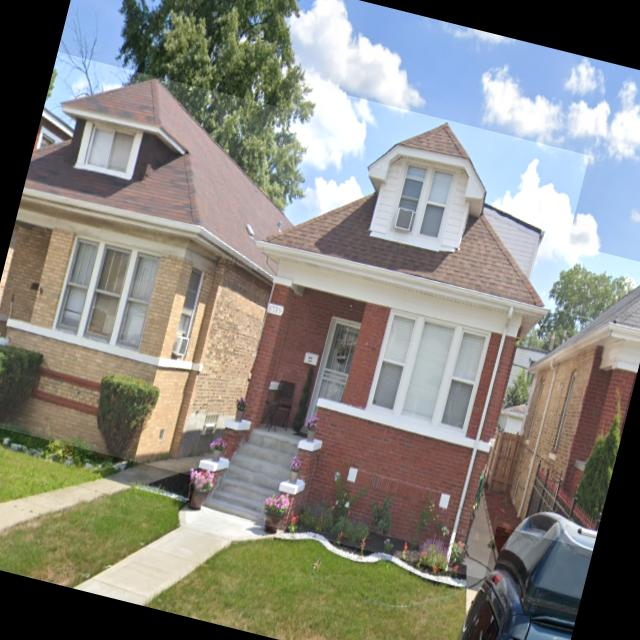House: (189, 81, 589, 580), (0, 51, 318, 484), (492, 242, 640, 550)
